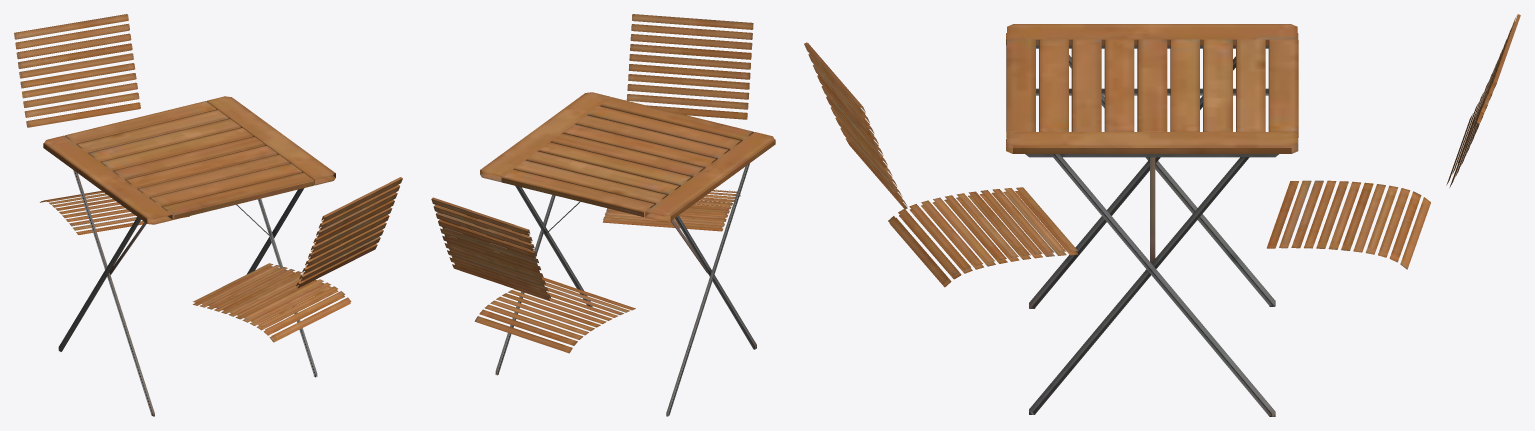
Rendered from terrasse_cafe_lod2.glb.
The picture shows the model from 3 angles, left to right: view 1: azimuth 30°, elevation 25°; view 2: azimuth 150°, elevation 25°; view 3: azimuth 270°, elevation 25°; orthographic projection. The views are drawn at different scales.
Visible parts, largest first — view 1: outdoor_table_chair_set_01_table, outdoor_table_chair_set_01_chair_01; view 2: outdoor_table_chair_set_01_table, outdoor_table_chair_set_01_chair_01; view 3: outdoor_table_chair_set_01_table, outdoor_table_chair_set_01_chair_01.
Part boxes in pixels (<box>): outdoor_table_chair_set_01_table: <box>43,96,335,416</box>; outdoor_table_chair_set_01_chair_01: <box>14,14,402,342</box>; outdoor_table_chair_set_01_table: <box>480,92,775,416</box>; outdoor_table_chair_set_01_chair_01: <box>431,14,753,353</box>; outdoor_table_chair_set_01_table: <box>1006,24,1298,416</box>; outdoor_table_chair_set_01_chair_01: <box>804,14,1520,287</box>.
Bounding box in the file's own units: 0.7288 × 0.8422 × 1.7.
2 materials, 2 textured.
